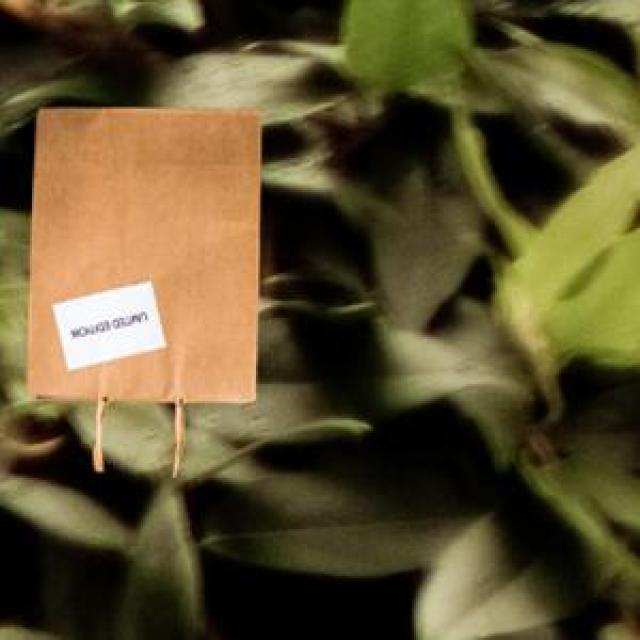paper: (21, 105, 258, 472)
